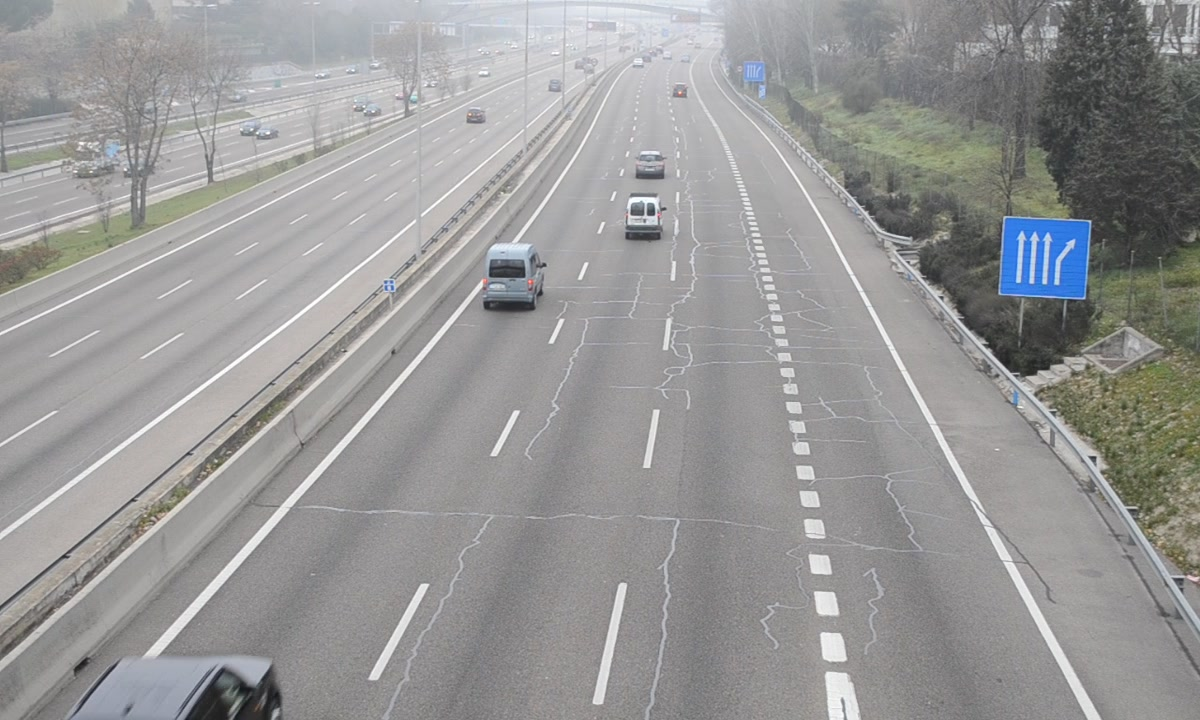car: (634, 151, 666, 179)
van: (481, 245, 544, 306), (625, 192, 663, 237)
